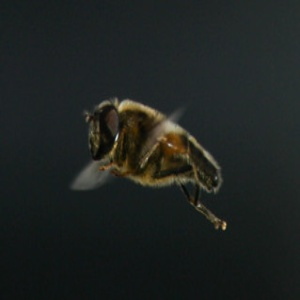bee: (60, 94, 235, 238)
